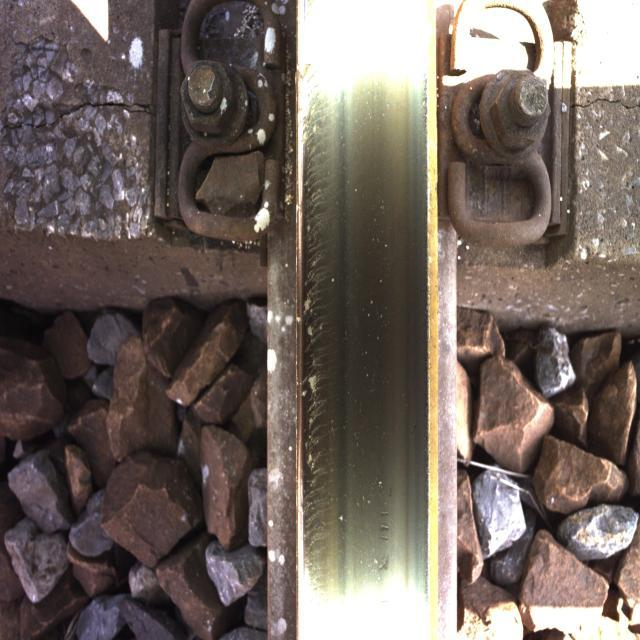scar: (299, 51, 405, 595)
